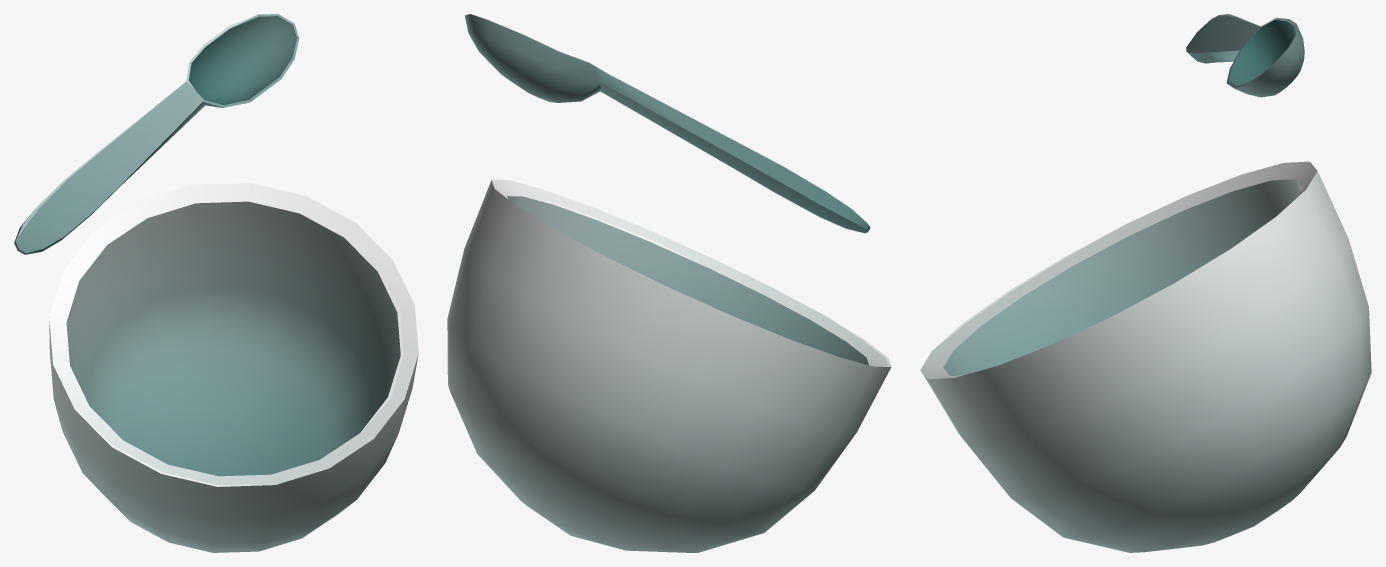
File: Mercy_Bowl.fbx
3 views of the same model, side by side, from view 1: azimuth 30°, elevation 25°; view 2: azimuth 150°, elevation 25°; view 3: azimuth 270°, elevation 25° (orthographic). The views are drawn at different scales.
Parts seen in each view (by area): view 1: Mercy_Bowl; view 2: Mercy_Bowl; view 3: Mercy_Bowl.
Part boxes in pixels (x1=…): Mercy_Bowl: x1=14, y1=14, x2=418, y2=552; Mercy_Bowl: x1=447, y1=14, x2=891, y2=552; Mercy_Bowl: x1=920, y1=14, x2=1371, y2=552.
Bounding box in the file's own units: 10.05 × 12.5 × 9.33.
